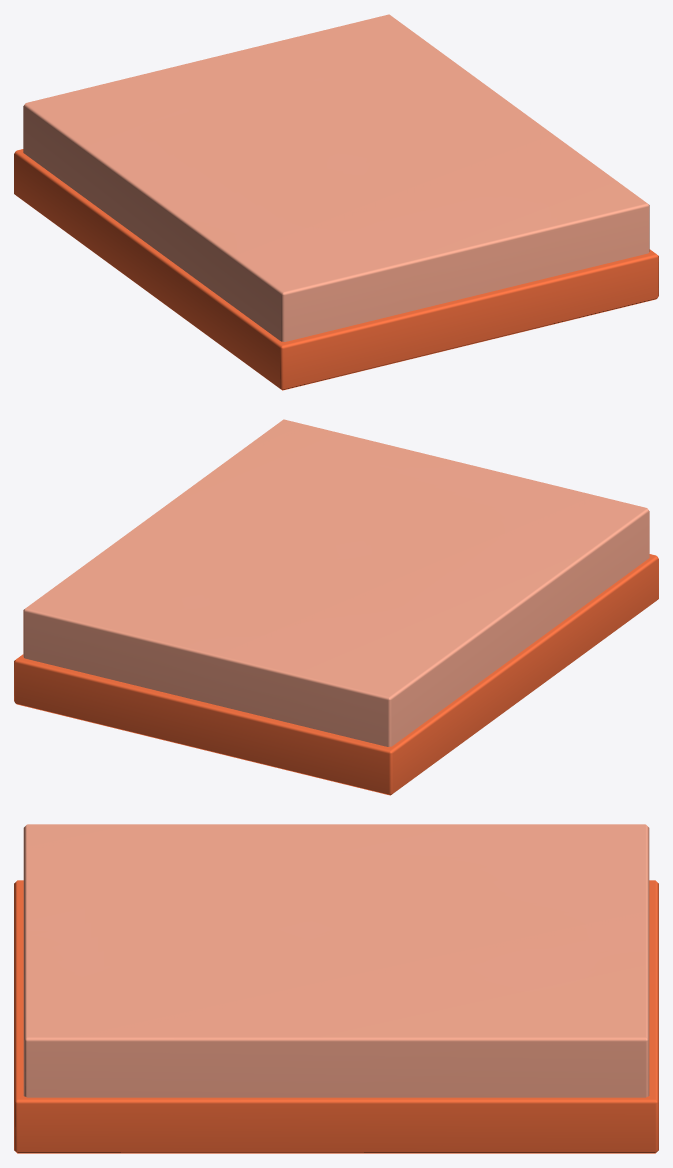
File: Store_6_Base_1.glb
3 views of the same model, one above another, from view 1: azimuth 30°, elevation 25°; view 2: azimuth 150°, elevation 25°; view 3: azimuth 270°, elevation 25° (orthographic). The views are drawn at different scales.
Visible parts, largest first — view 1: Store_6_Base_1; view 2: Store_6_Base_1; view 3: Store_6_Base_1.
Part boxes in pixels (x1=…): Store_6_Base_1: x1=14, y1=14, x2=658, y2=390; Store_6_Base_1: x1=14, y1=419, x2=658, y2=795; Store_6_Base_1: x1=14, y1=824, x2=658, y2=1153.
Bounding box in the file's own units: 6.79 × 1.62 × 8.34.
Materials: 1 (1 with a texture image).
